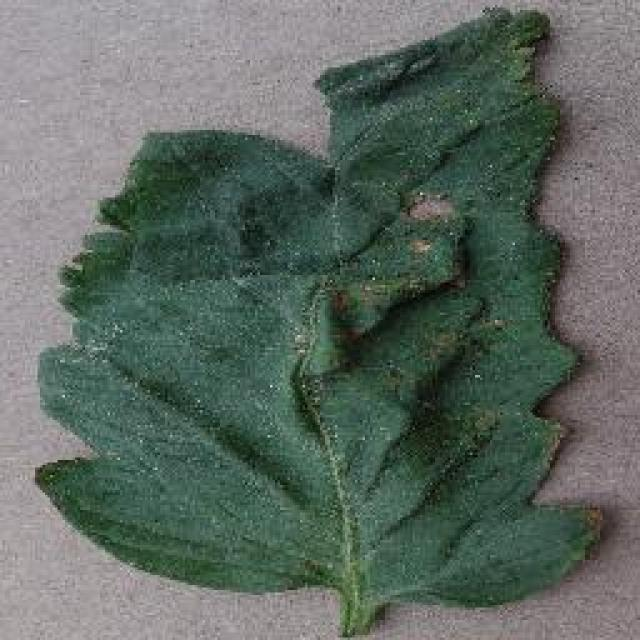Tom_Bacterial_spot: (289, 159, 516, 445)
